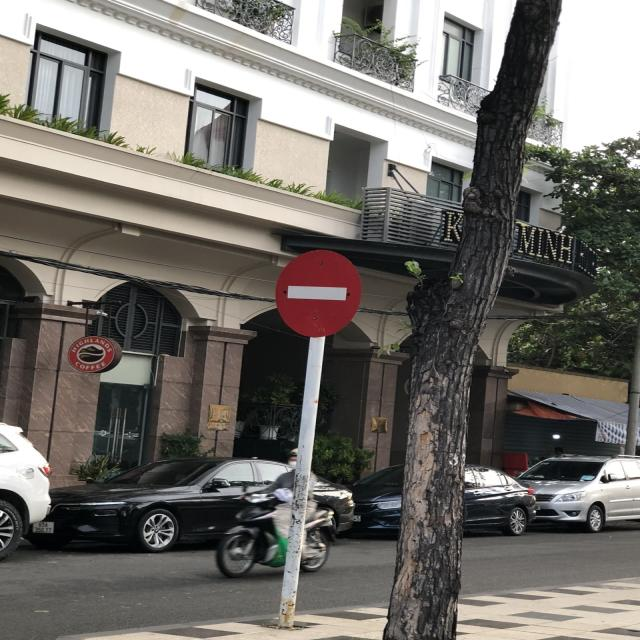Bien bao cam di nguoc chieu: (267, 244, 373, 344)
